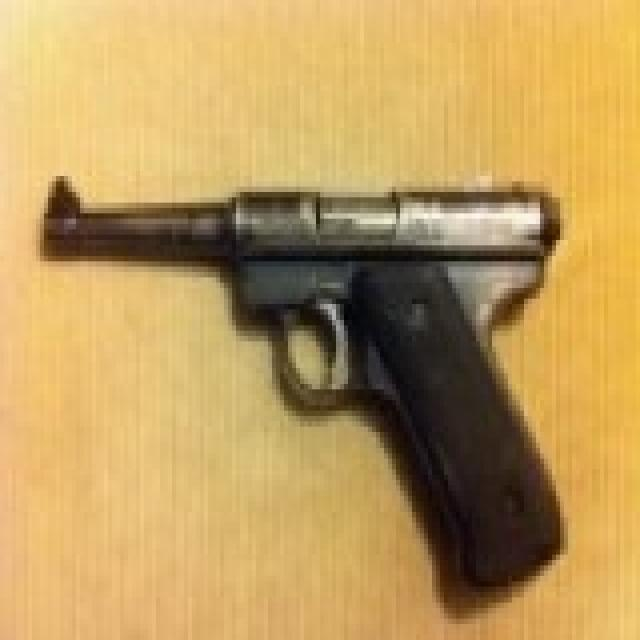pistol: (28, 171, 580, 592)
